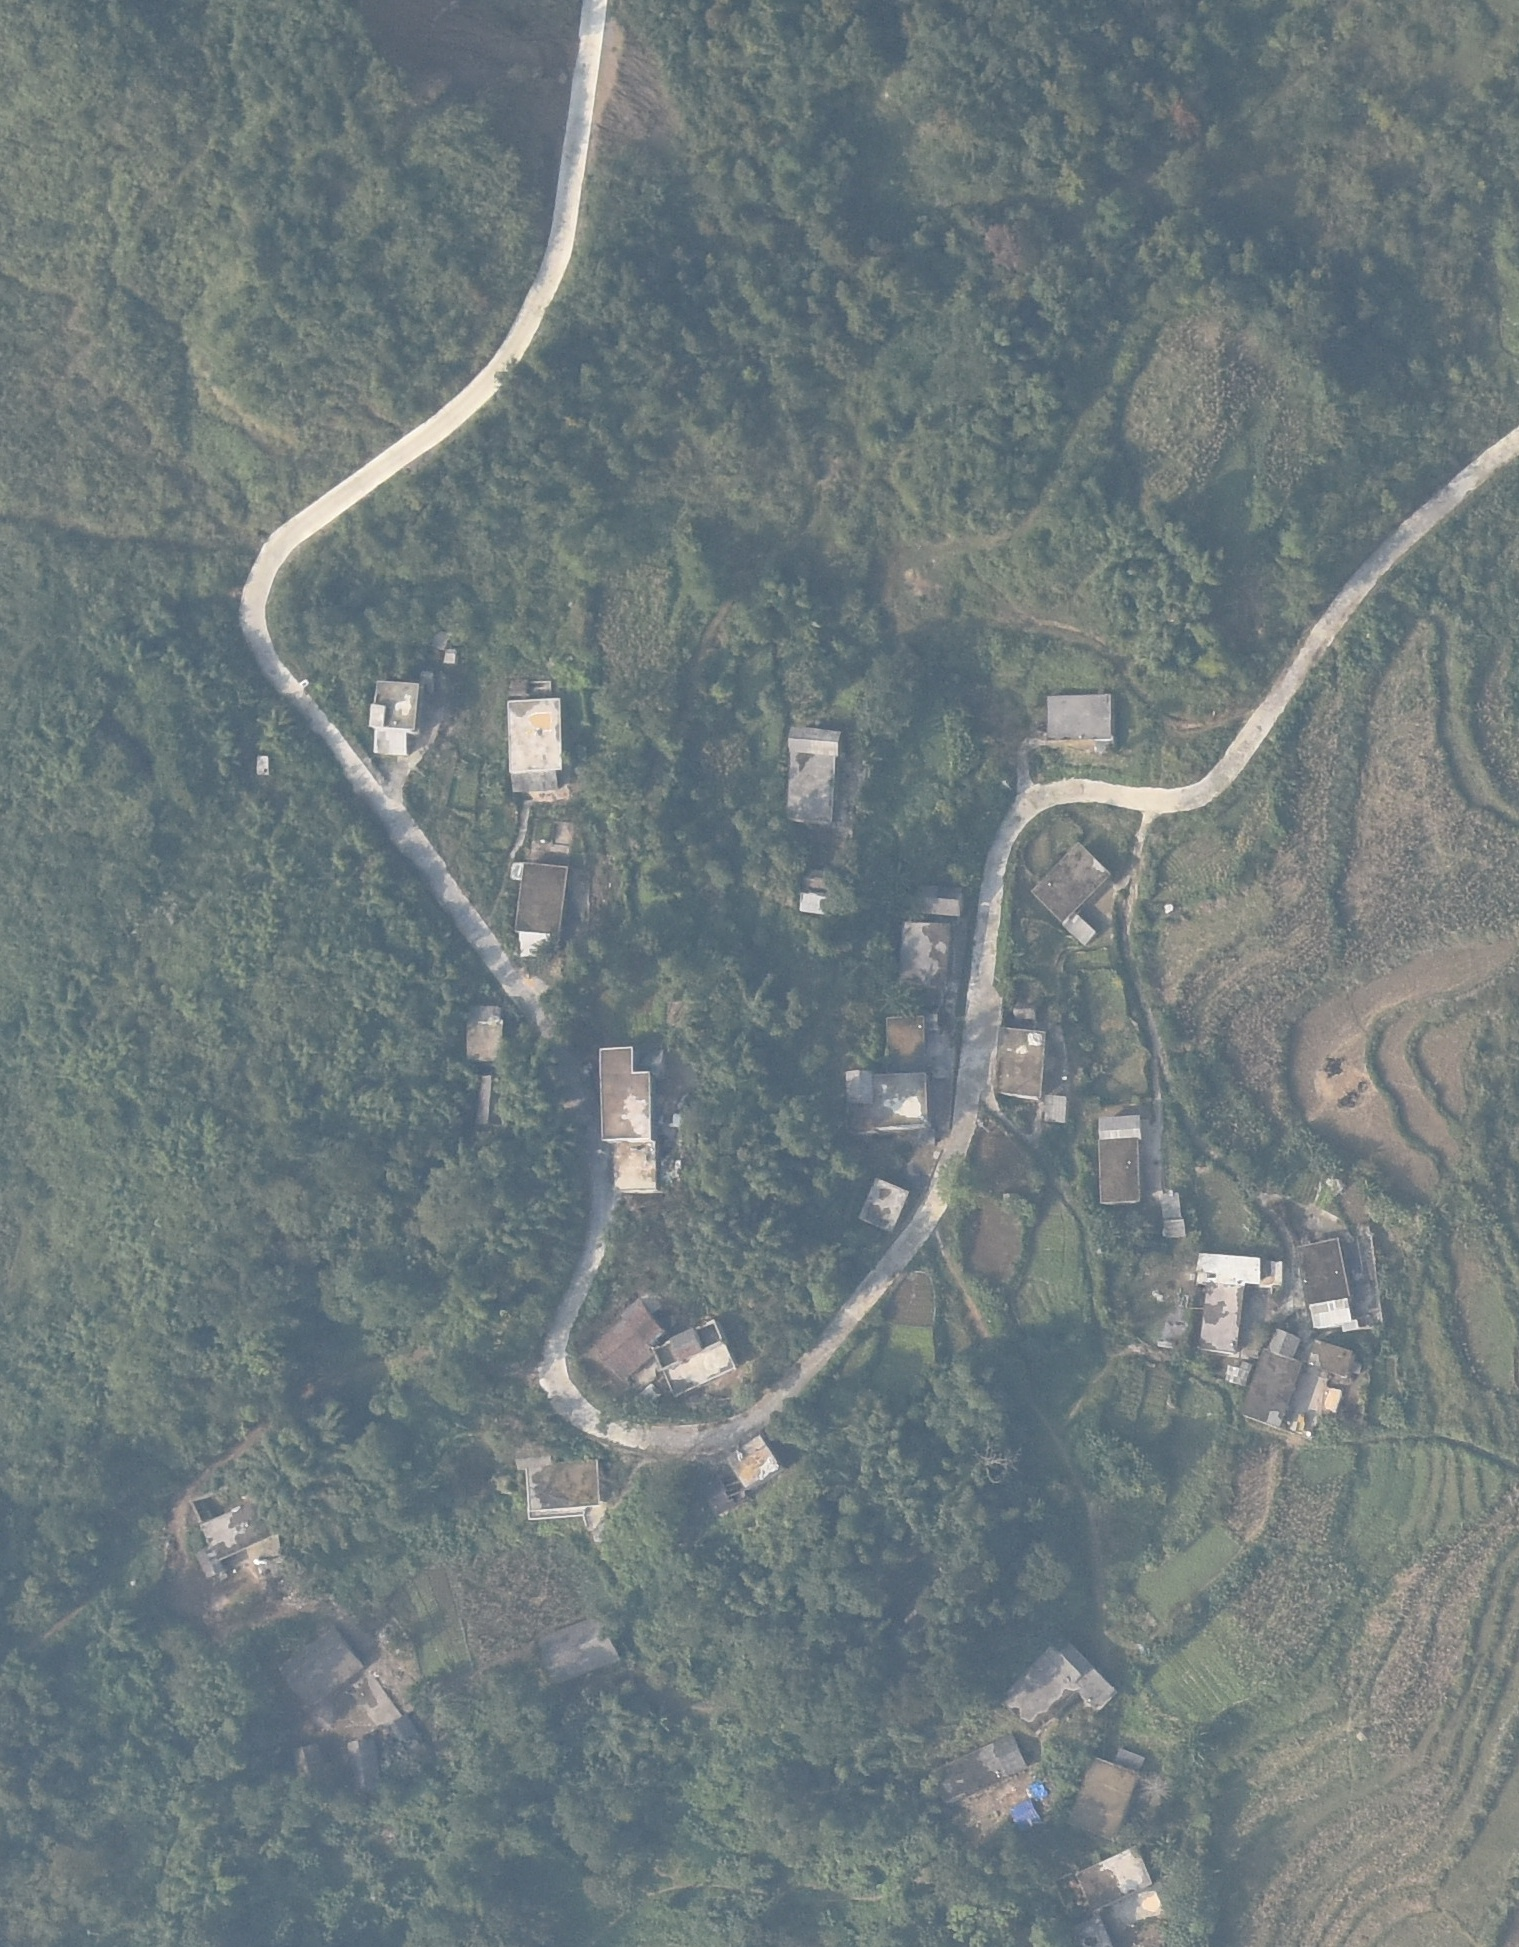building: (590, 1040, 665, 1201), (1005, 1629, 1121, 1727), (575, 1291, 665, 1399), (1031, 842, 1125, 943), (1053, 1849, 1168, 1931), (836, 1057, 937, 1141), (1190, 1241, 1261, 1359), (643, 1312, 741, 1395), (269, 1626, 373, 1702), (193, 1500, 289, 1580), (499, 692, 574, 793), (926, 1727, 1031, 1798), (1073, 1742, 1151, 1836), (522, 1617, 629, 1681), (781, 724, 846, 830), (1293, 1236, 1364, 1332), (518, 1454, 609, 1527), (1242, 1324, 1302, 1433), (362, 673, 432, 759), (1092, 1106, 1151, 1207), (511, 853, 575, 940), (989, 1019, 1053, 1098), (1042, 694, 1118, 748), (450, 999, 514, 1062), (895, 923, 958, 986), (858, 1173, 912, 1234), (335, 1727, 384, 1794), (729, 1432, 782, 1492), (885, 1004, 934, 1062), (901, 876, 964, 915), (1304, 1335, 1359, 1378), (291, 1735, 327, 1787)
